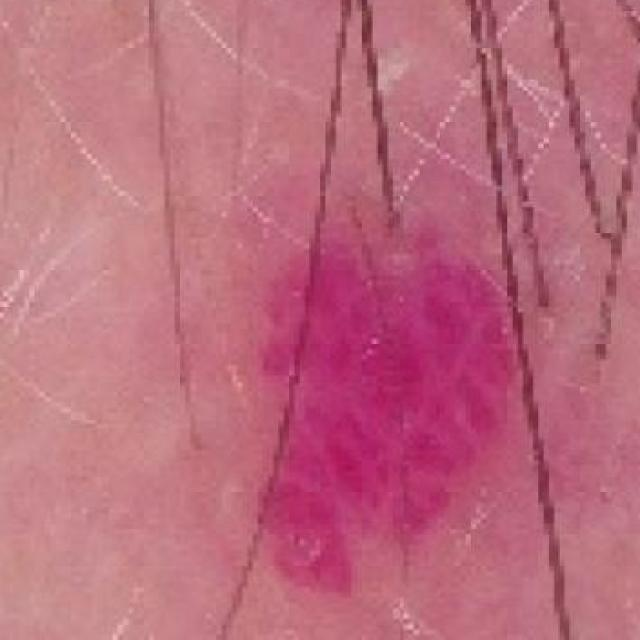VASC: (207, 122, 574, 579)
